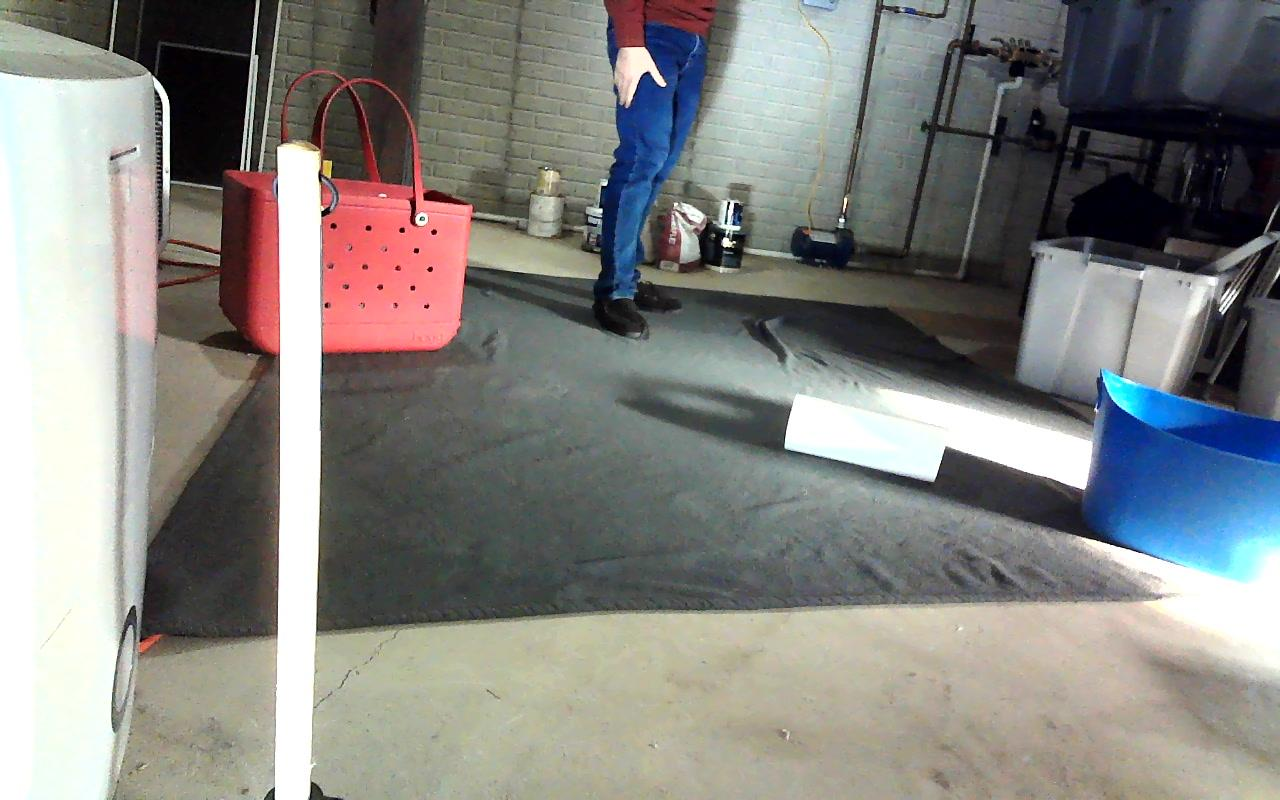coral: (784, 395, 944, 480)
